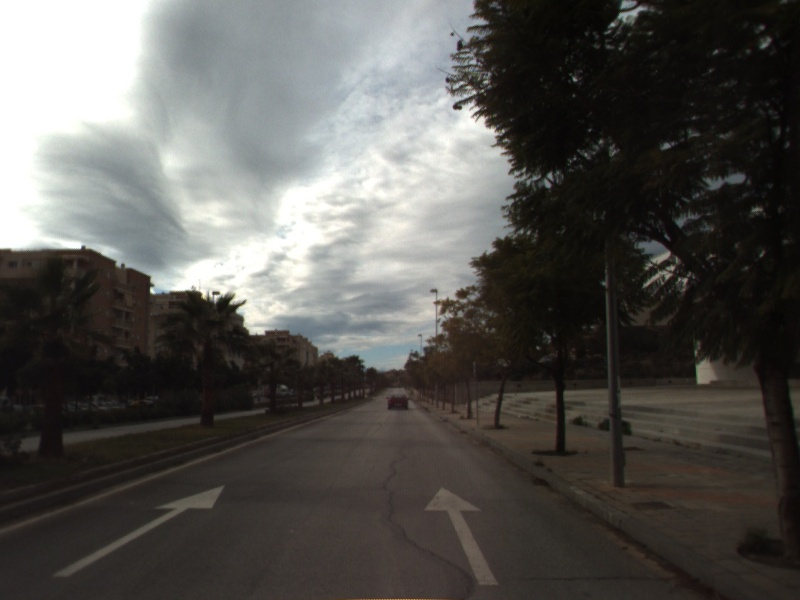STRAIGHT: (48, 482, 228, 580), (421, 484, 503, 588)
